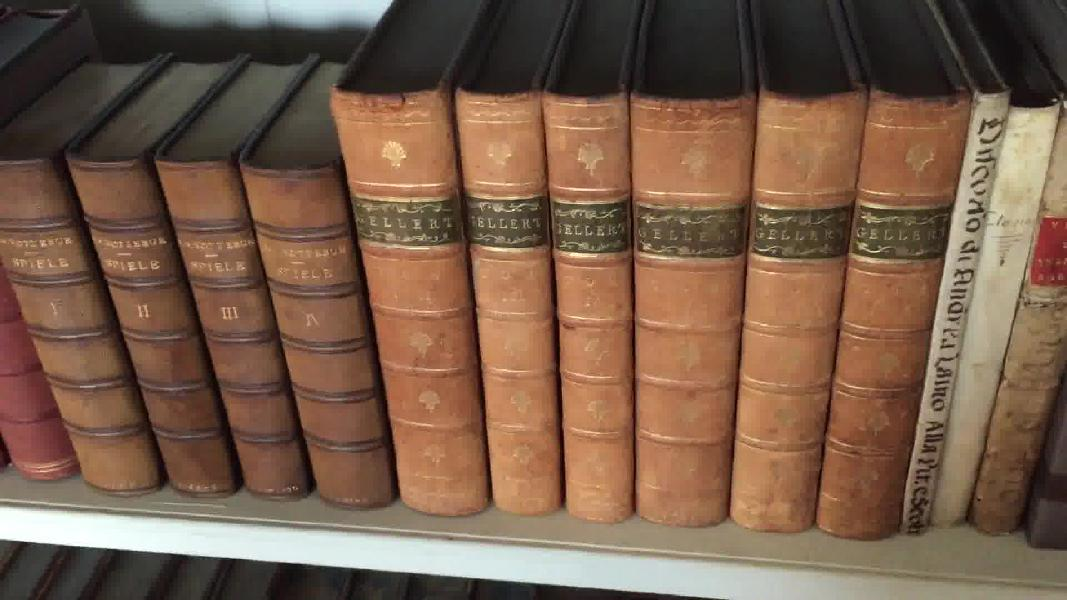Aa6-14_17: (6, 136, 412, 508)
Aa6-18_23: (327, 84, 956, 540)
Aa6-24: (901, 78, 998, 538)
Aa6-25: (919, 67, 1058, 539)
